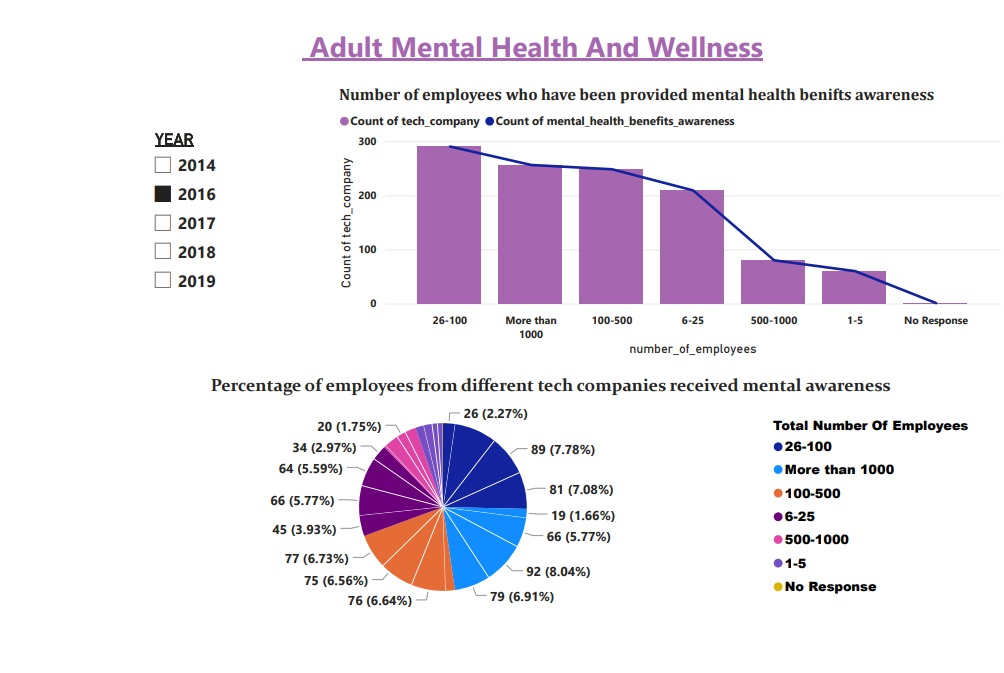

What the dashboard file says about the page in this screenshot:
{"tool":"powerbi","page":{"name":"Page 1","canvas":[1280,720],"ordinal":0},"visuals":[{"type":"group","id":"g1","title":"Group 2","box":[145.3,87.7,1024.4,609.1],"z":0},{"type":"group","id":"g2","title":"Group 1","box":[185,87.7,984.7,315.5],"z":0,"group":"g1"},{"type":"slicer","fields":{"Values":["Mental health in tech survey 2014-2019.year"]},"box":[185,134.7,194.7,224.9],"z":0,"group":"g2"},{"type":"textbox","box":[38.4,15.1,1155.8,52.1],"z":1000},{"type":"lineStackedColumnComboChart","title":"Number of employees who have been provided mental health benifts awareness","fields":{"Category":["Mental health in tech survey 2014-2019.number_of_employees"],"Y":["CountNonNull(Mental health in tech survey 2014-2019.tech_company)"],"Y2":["CountNonNull(Mental health in tech survey 2014-2019.mental_health_benefits_awareness)"]},"box":[403.3,87.7,766.4,315.5],"z":1000,"group":"g2"},{"type":"pieChart","title":"Percentage of employees from different tech companies received mental awareness","fields":{"Category":["Mental health in tech survey 2014-2019.number_of_employees"],"Y":["CountNonNull(Mental health in tech survey 2014-2019.tech_company)"],"Series":["Mental health in tech survey 2014-2019.mental_health_benefits_awareness"]},"box":[145.3,418.5,1010.5,278.3],"z":1000,"group":"g1"}]}

Visuals, with their boxes on the page's 1280x720 design canvas (x1, y1, x2, y2). These are canvas units, not pixel positions in the 1004x673 screenshot, which may show the page scaled, cropped or inside an application window:
"Group 2" group: 145/88/1170/697
"Group 1" group: 185/88/1170/403
slicer - Mental health in tech survey 2014-2019.year: 185/135/380/360
textbox: 38/15/1194/67
"Number of employees who have been provided mental health benifts awareness" lineStackedColumnComboChart: 403/88/1170/403
"Percentage of employees from different tech companies received mental awareness" pieChart: 145/418/1156/697
